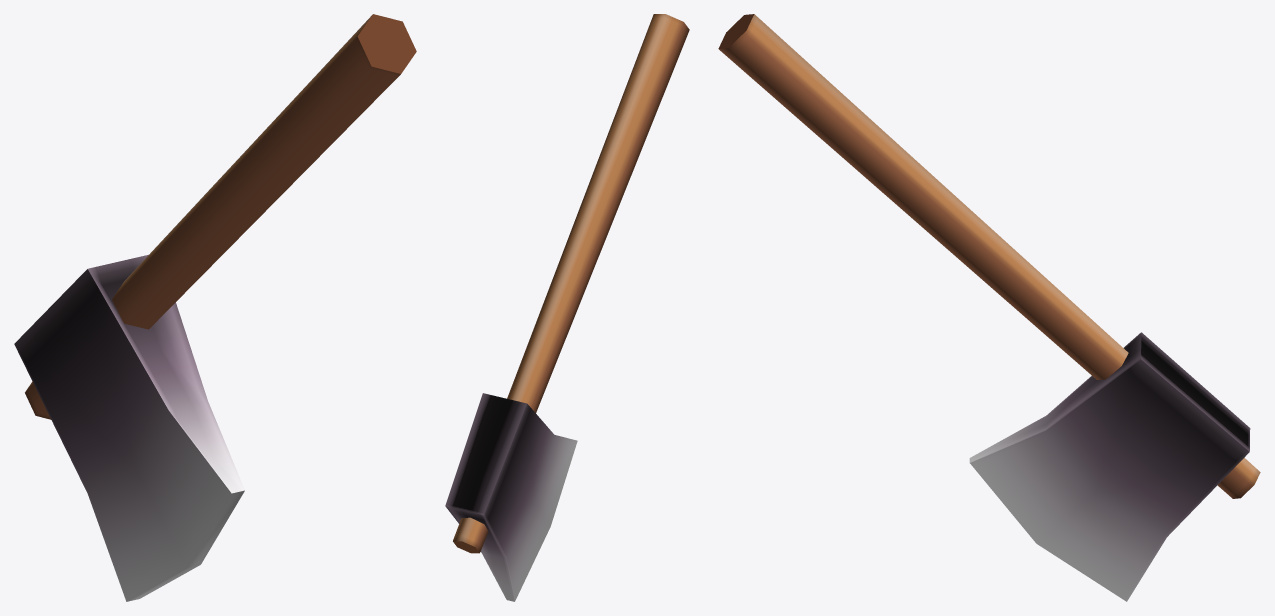
3 renders of one model, left to right at view 1: azimuth 30°, elevation 25°; view 2: azimuth 150°, elevation 25°; view 3: azimuth 270°, elevation 25°, orthographic. The views are drawn at different scales.
Visible parts, largest first — view 1: mesh_Mesh_T03ono00; view 2: mesh_Mesh_T03ono00; view 3: mesh_Mesh_T03ono00.
Boxes of the visible parts, left/top/right/bottom form: mesh_Mesh_T03ono00: left=14, top=14, right=416, bottom=601; mesh_Mesh_T03ono00: left=445, top=14, right=689, bottom=601; mesh_Mesh_T03ono00: left=718, top=14, right=1260, bottom=601.
Size of the model in its own units: 0.0932 by 0.9264 by 0.7799.
Materials: 1 (1 with a texture image).
